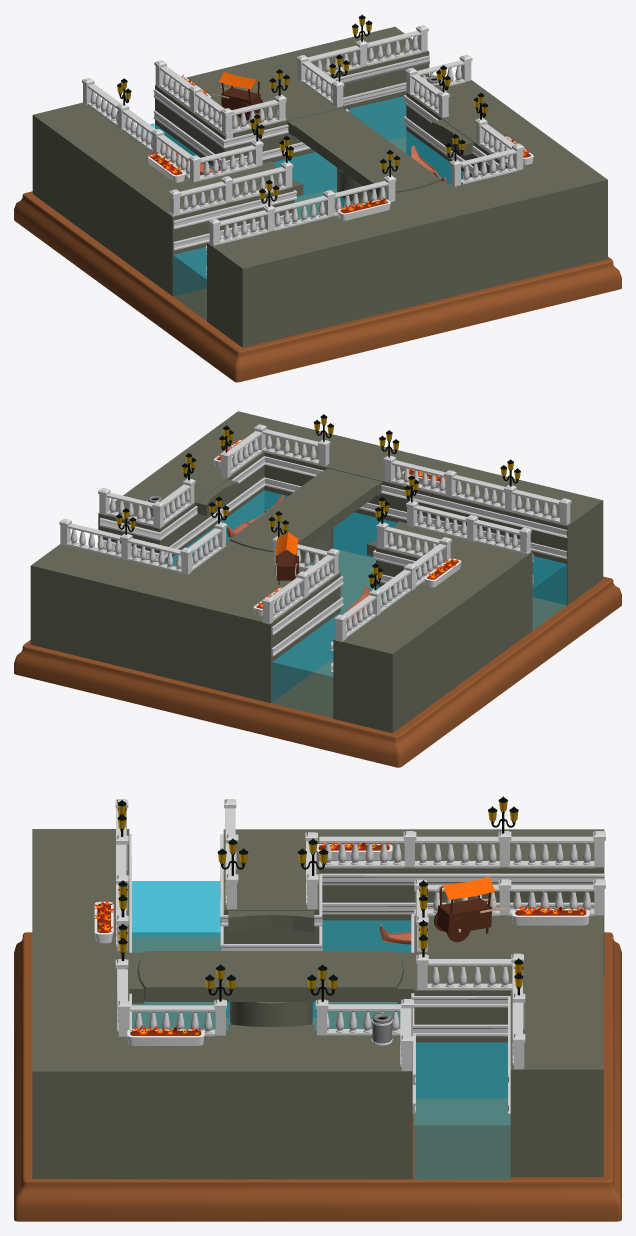
File: Level3_5.FBX
3 views of the same model, one above another, from view 1: azimuth 30°, elevation 25°; view 2: azimuth 150°, elevation 25°; view 3: azimuth 270°, elevation 25° (orthographic). The views are drawn at different scales.
Parts seen in each view (by area): view 1: Container001, Box070, Box071, Box069, Cylinder060, Box047, Cylinder061, Cylinder064; view 2: Container001, Box069, Box071, Box070, Cylinder060, Cylinder061, Box047, Cylinder064; view 3: Container001, Box070, Box069, Box071, Cylinder060, Cylinder064, Cylinder059, Box047, Box117, Box119, Box048, Cylinder062 (+1 smaller).
Boxes of the visible parts, <box> form: Container001: <box>14,25,621,382</box>; Box070: <box>207,80,607,347</box>; Box071: <box>32,102,294,296</box>; Box069: <box>155,26,429,197</box>; Cylinder060: <box>294,111,440,197</box>; Box047: <box>221,88,260,112</box>; Cylinder061: <box>432,119,473,155</box>; Cylinder064: <box>337,167,379,207</box>; Container001: <box>14,424,621,767</box>; Box069: <box>30,544,340,703</box>; Box071: <box>333,525,532,733</box>; Box070: <box>98,411,603,605</box>; Cylinder060: <box>229,471,376,552</box>; Cylinder061: <box>196,479,238,515</box>; Box047: <box>277,550,296,580</box>; Cylinder064: <box>300,528,333,565</box>; Container001: <box>14,799,621,1221</box>; Box070: <box>32,829,412,1179</box>; Box069: <box>414,915,603,1177</box>; Box071: <box>223,829,604,1017</box>; Cylinder060: <box>138,951,402,1001</box>; Cylinder064: <box>230,1002,312,1027</box>; Cylinder059: <box>228,910,314,932</box>; Box047: <box>437,898,491,932</box>; Box117: <box>512,909,589,925</box>; Box119: <box>127,1029,204,1045</box>; Box048: <box>439,877,495,899</box>; Cylinder062: <box>397,952,414,1003</box>.
Bounding box in the file's own units: 336 × 130 × 336.
